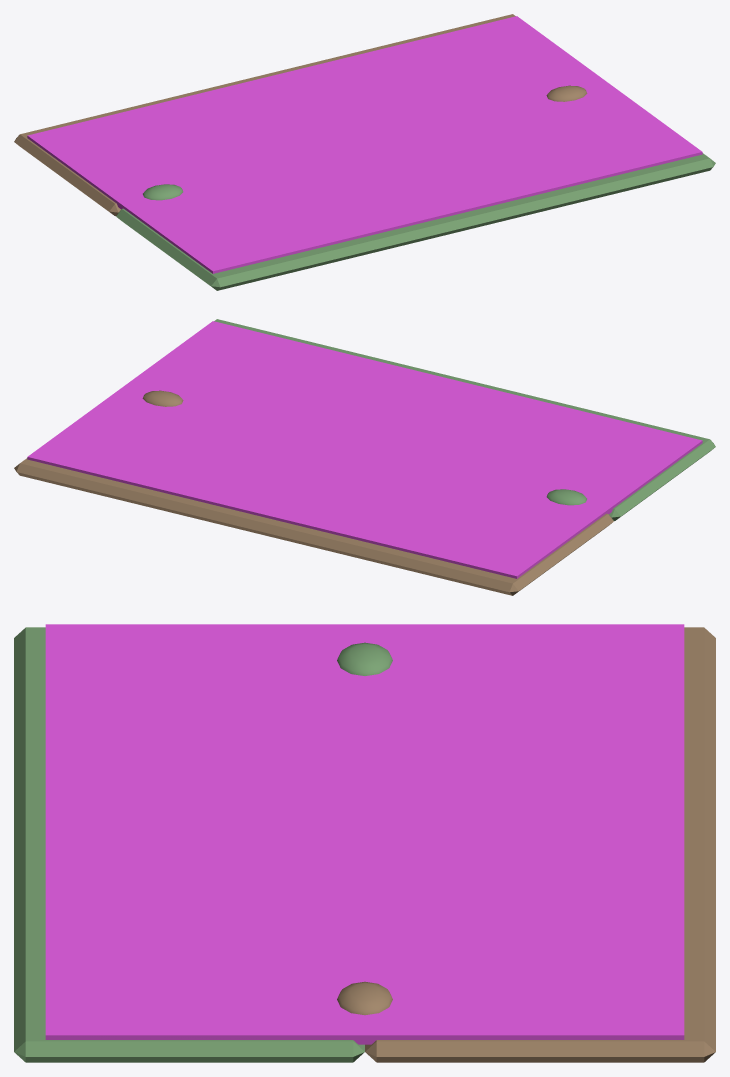
3 views of the same model, one above another, from view 1: azimuth 30°, elevation 25°; view 2: azimuth 150°, elevation 25°; view 3: azimuth 270°, elevation 25° (orthographic). The views are drawn at different scales.
Parts seen in each view (by area): view 1: NAV_MASK_TRANSITION_GRASS_DIRT, LOD2_TRANSITION_GRASS_DIRT_A, LOD2_TRANSITION_GRASS_DIRT_B, LOD2_TRANSITION_GRASS_DIRT_Blend_01, LOD2_TRANSITION_GRASS_DIRT_Blend_02; view 2: NAV_MASK_TRANSITION_GRASS_DIRT, LOD2_TRANSITION_GRASS_DIRT_B, LOD2_TRANSITION_GRASS_DIRT_A, LOD2_TRANSITION_GRASS_DIRT_Blend_01, LOD2_TRANSITION_GRASS_DIRT_Blend_02; view 3: NAV_MASK_TRANSITION_GRASS_DIRT, LOD2_TRANSITION_GRASS_DIRT_A, LOD2_TRANSITION_GRASS_DIRT_B, LOD2_TRANSITION_GRASS_DIRT_Blend_02, LOD2_TRANSITION_GRASS_DIRT_Blend_01.
Boxes of the visible parts, x1,y1,x2,y2 form: NAV_MASK_TRANSITION_GRASS_DIRT: (27, 16, 702, 273); LOD2_TRANSITION_GRASS_DIRT_A: (116, 153, 715, 290); LOD2_TRANSITION_GRASS_DIRT_B: (14, 14, 515, 216); LOD2_TRANSITION_GRASS_DIRT_Blend_01: (143, 184, 183, 200); LOD2_TRANSITION_GRASS_DIRT_Blend_02: (546, 85, 587, 101); NAV_MASK_TRANSITION_GRASS_DIRT: (27, 321, 702, 578); LOD2_TRANSITION_GRASS_DIRT_B: (14, 458, 613, 595); LOD2_TRANSITION_GRASS_DIRT_A: (214, 319, 715, 521); LOD2_TRANSITION_GRASS_DIRT_Blend_01: (546, 489, 586, 505); LOD2_TRANSITION_GRASS_DIRT_Blend_02: (142, 390, 183, 406); NAV_MASK_TRANSITION_GRASS_DIRT: (45, 624, 684, 1044); LOD2_TRANSITION_GRASS_DIRT_A: (14, 627, 364, 1062); LOD2_TRANSITION_GRASS_DIRT_B: (365, 627, 715, 1062); LOD2_TRANSITION_GRASS_DIRT_Blend_02: (337, 981, 392, 1015); LOD2_TRANSITION_GRASS_DIRT_Blend_01: (337, 642, 392, 675).
Size of what is drawn, in the model's own units: 6 by 0.23 by 4.2.
